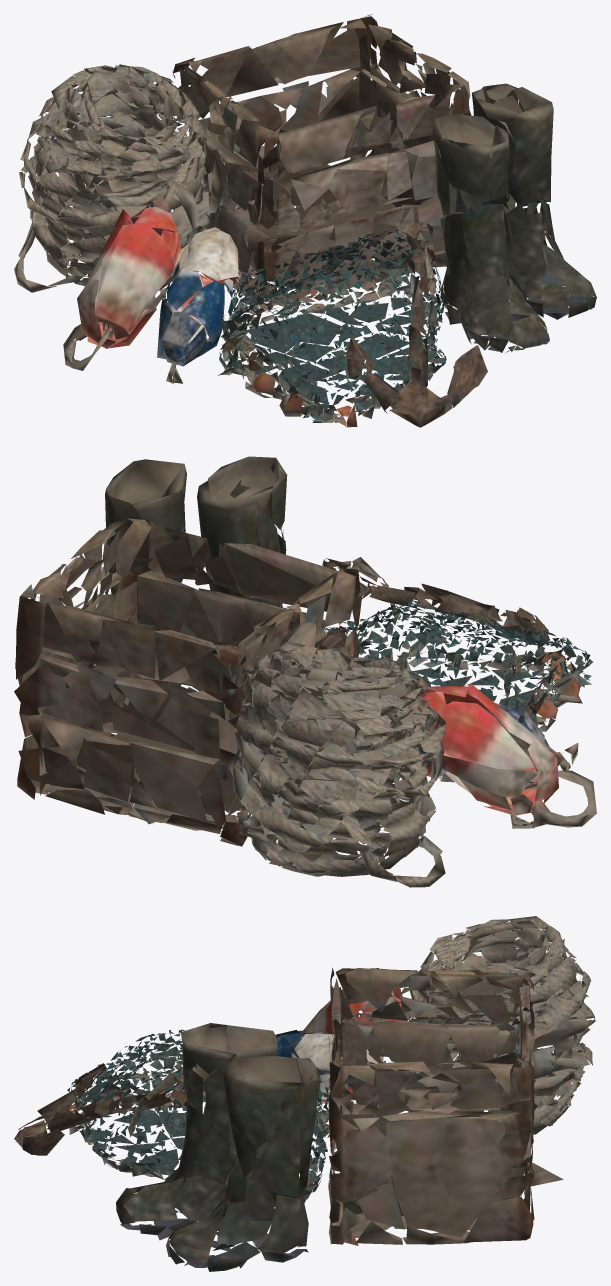
The model's file is fishing-gear.glb.
3 views of the same model, one above another, from view 1: azimuth 30°, elevation 25°; view 2: azimuth 150°, elevation 25°; view 3: azimuth 270°, elevation 25° (orthographic). The views are drawn at different scales.
Parts seen in each view (by area): view 1: Mesh_0; view 2: Mesh_0; view 3: Mesh_0.
Boxes of the visible parts, bbox=[...] form: Mesh_0: bbox=[14, 14, 596, 427]; Mesh_0: bbox=[14, 456, 596, 887]; Mesh_0: bbox=[14, 916, 596, 1271].
Bounding box in the file's own units: 1.74 × 0.685 × 1.9.
1 material, 1 textured.
